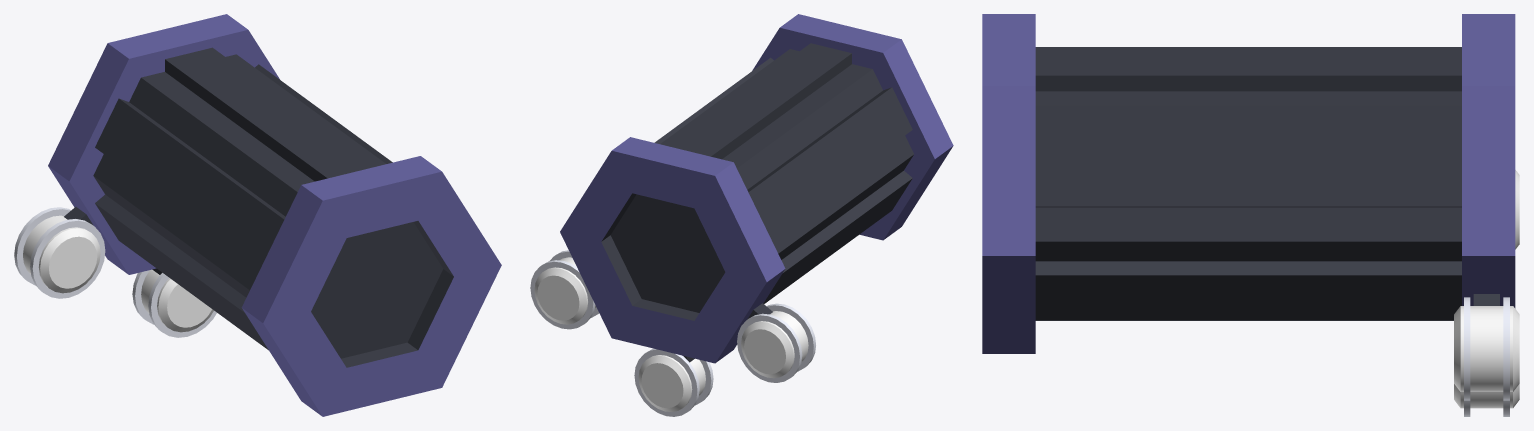
The model's file is blaster UI.fbx.
3 renders of one model, left to right at view 1: azimuth 30°, elevation 25°; view 2: azimuth 150°, elevation 25°; view 3: azimuth 270°, elevation 25°, orthographic. The views are drawn at different scales.
Visible parts, largest first — view 1: clipBarrel_large, attachment_barrel (×2); view 2: clipBarrel_large, attachment_barrel (×3); view 3: clipBarrel_large, attachment_barrel (×2).
Boxes of the visible parts, left/top/right/bottom form: clipBarrel_large: left=48, top=14, right=501, bottom=416; attachment_barrel (×2): left=14, top=207, right=216, bottom=337; clipBarrel_large: left=560, top=14, right=953, bottom=363; attachment_barrel (×3): left=530, top=250, right=815, bottom=416; clipBarrel_large: left=982, top=14, right=1515, bottom=353; attachment_barrel (×2): left=1454, top=294, right=1519, bottom=416.
Size of the model in its own units: 8.34 by 7.51 by 10.08.
